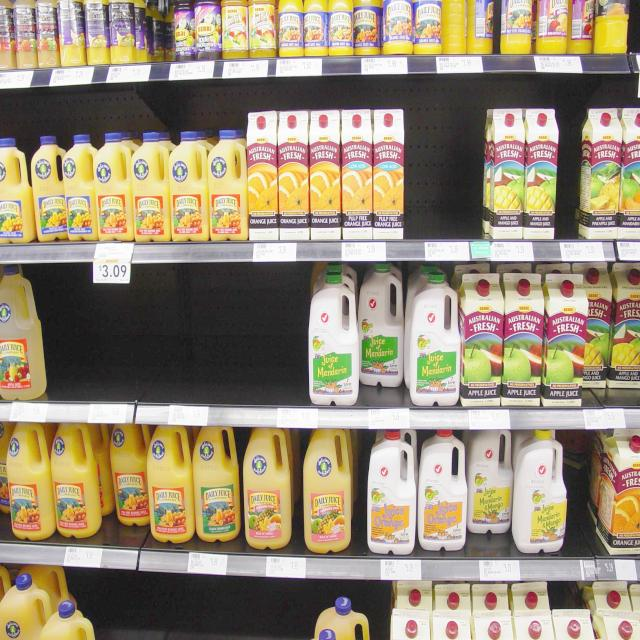empty_space: (44, 281, 304, 394), (102, 585, 304, 640), (416, 109, 475, 240), (558, 109, 582, 232), (573, 443, 597, 549)
